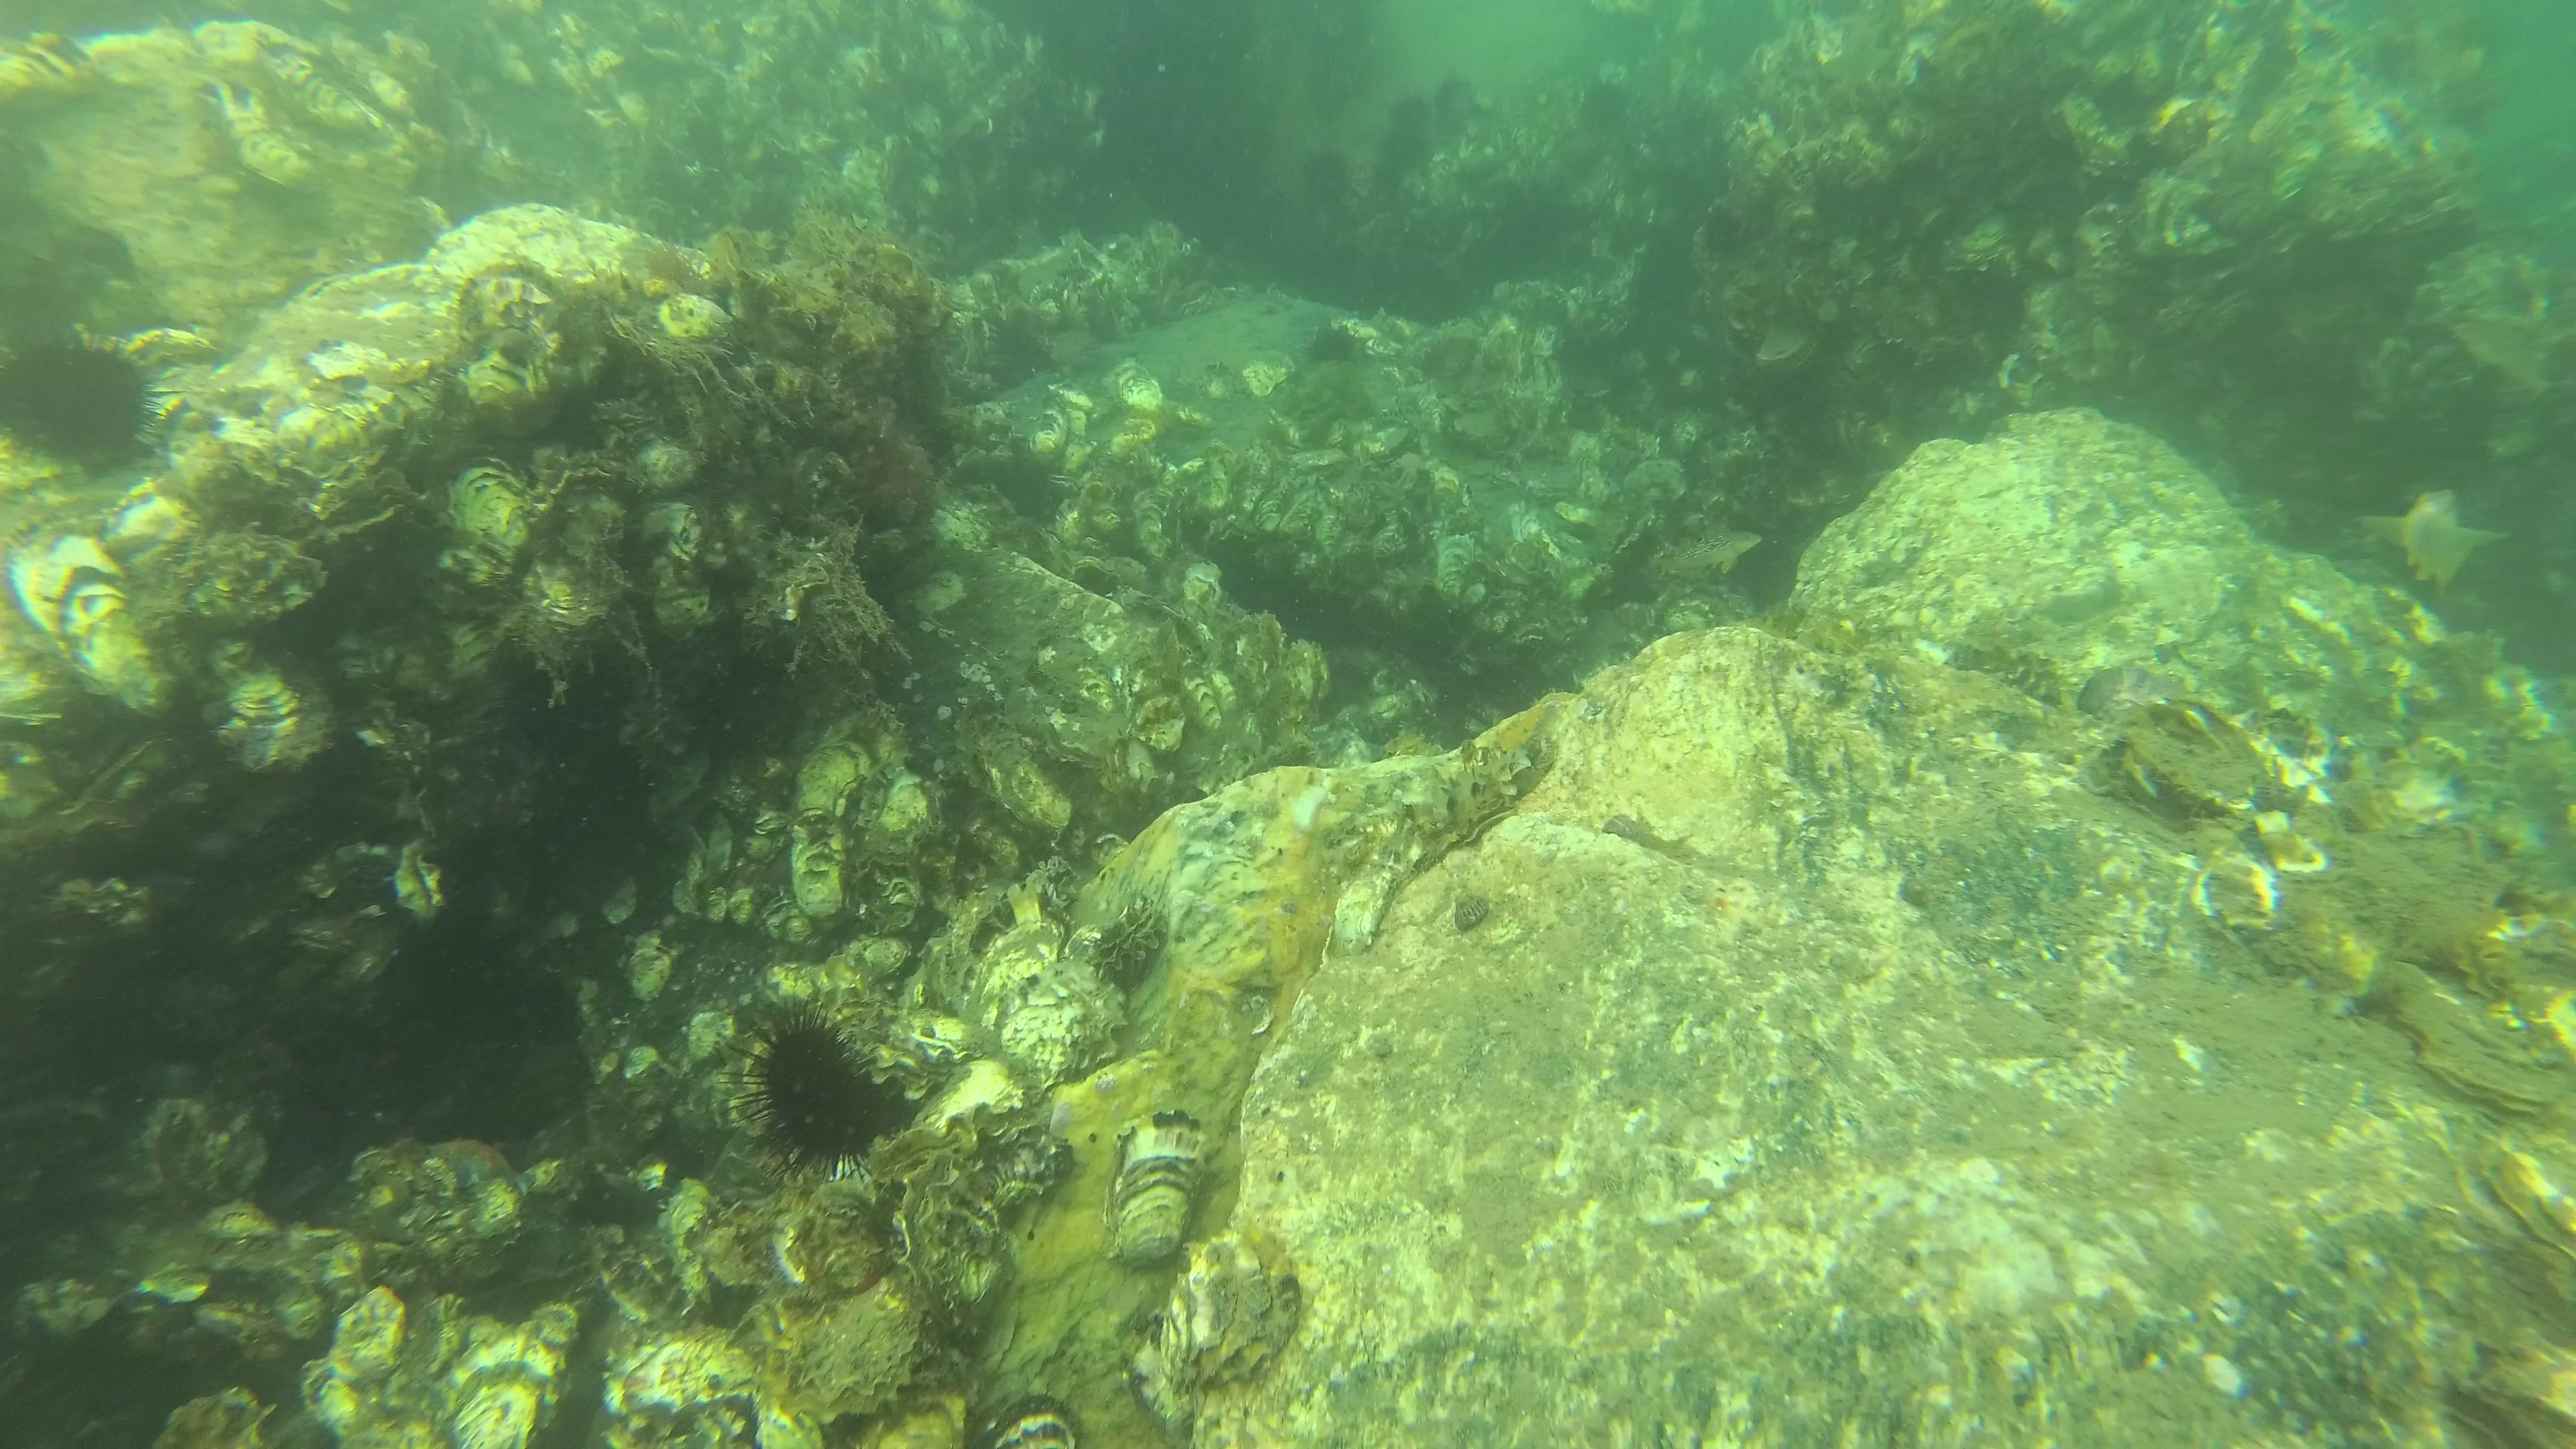echinus: (718, 1000, 918, 1185), (5, 327, 172, 476), (1552, 64, 1633, 136), (1304, 304, 1385, 375), (1288, 134, 1369, 205), (1364, 115, 1445, 186), (1366, 78, 1447, 149), (1414, 62, 1493, 133)
starfish: (418, 1131, 547, 1192)
